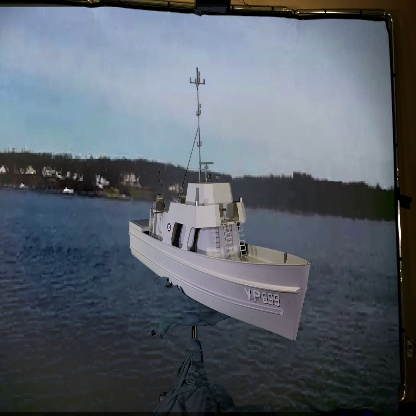YP689: (129, 64, 319, 343)
